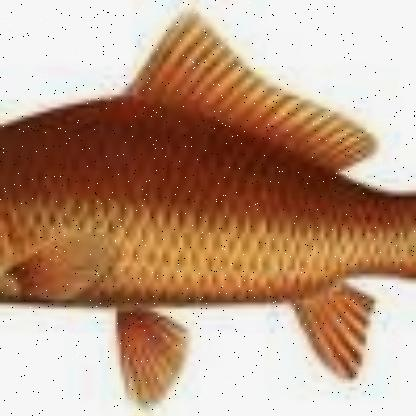ikan-mas: (0, 12, 410, 361)
